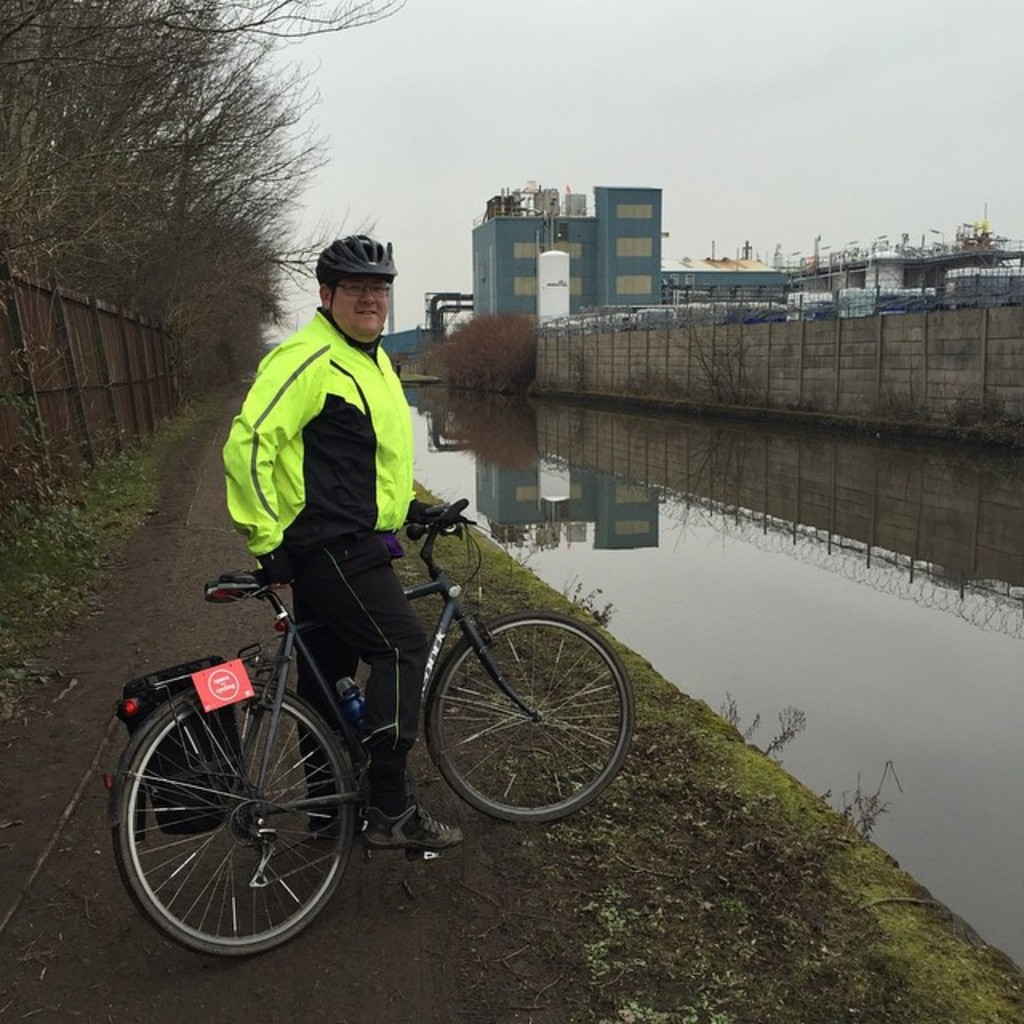Bike_away: (125, 497, 641, 958)
